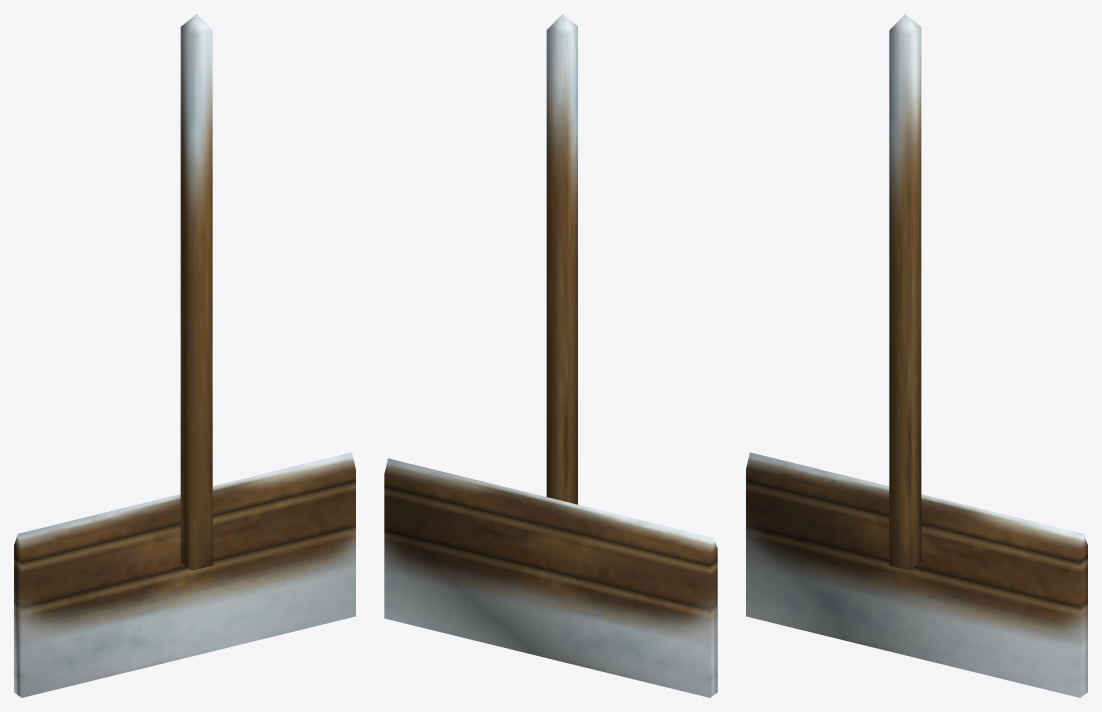
The picture shows the model from 3 angles, left to right: view 1: azimuth 30°, elevation 25°; view 2: azimuth 150°, elevation 25°; view 3: azimuth 330°, elevation 25°; orthographic projection. The views are drawn at different scales.
Visible parts, largest first — view 1: a43; view 2: a43; view 3: a43.
Boxes of the visible parts, x1,y1,x2,y2 form: a43: [14, 14, 355, 697]; a43: [384, 14, 717, 697]; a43: [746, 14, 1087, 697].
Size of the model in its own units: 224 by 416 by 25.02.
